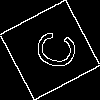C: (25, 25, 79, 73)
